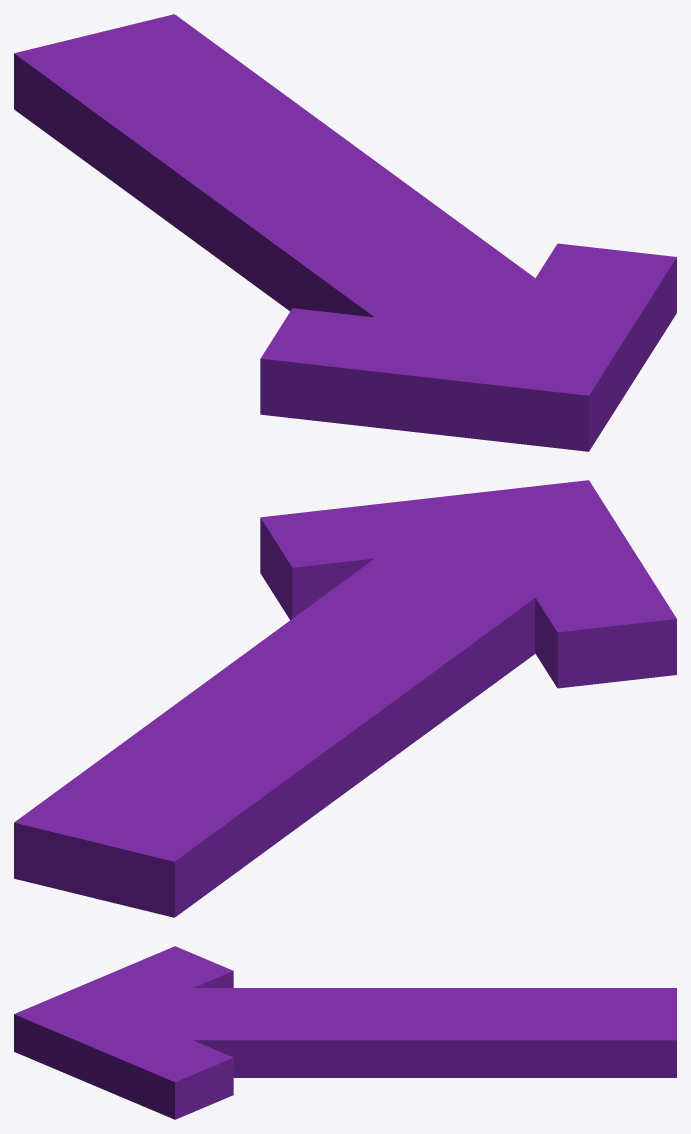
File: Arrow Purple.glb
3 views of the same model, one above another, from view 1: azimuth 30°, elevation 25°; view 2: azimuth 150°, elevation 25°; view 3: azimuth 270°, elevation 25° (orthographic). The views are drawn at different scales.
Parts seen in each view (by area): view 1: cube; view 2: cube; view 3: cube.
Boxes of the visible parts, x1,y1,x2,y2 form: cube: (14, 14, 676, 451); cube: (14, 480, 676, 917); cube: (14, 946, 676, 1119).
Size of the model in its own units: 0.9723 by 0.125 by 2.
1 material, 1 textured.
